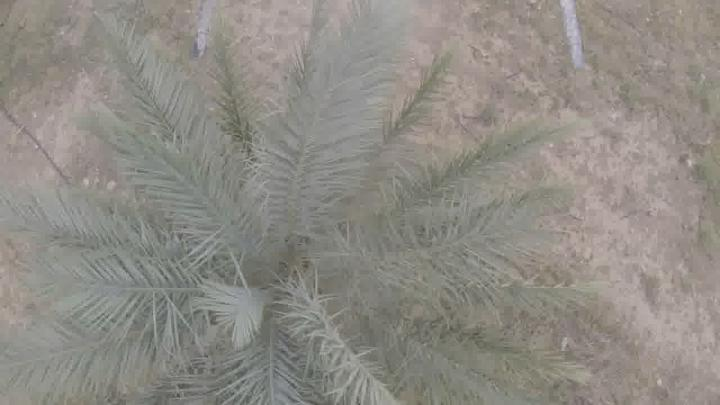Date-Palm-Crown: (132, 117, 448, 405)
